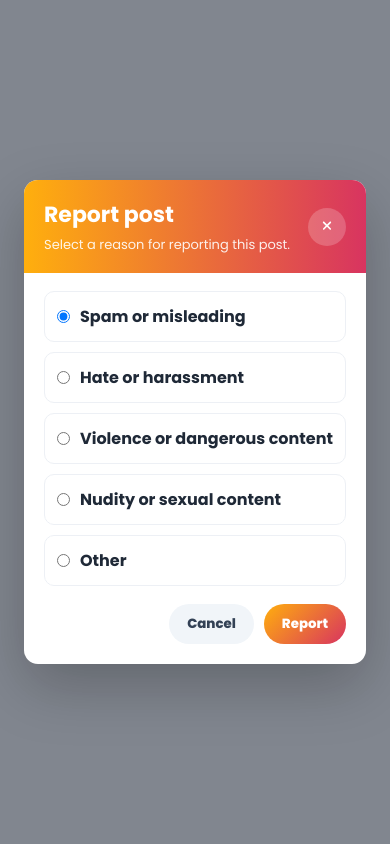
Test: failed report stays open and can be retried
What coordinates should you click on to do the following:
click the button "Report"
I would click on:
 (305, 624)
Its box is [264,604,346,644].
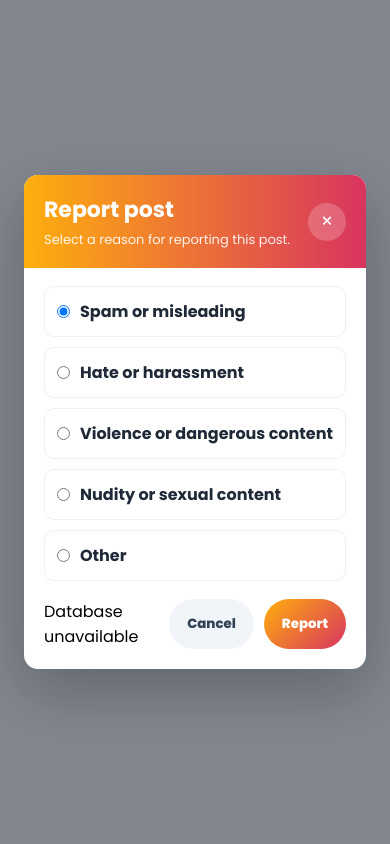
Expected: the text "Reported" is not shown
Now the message reads "Database unavailable", box [44,600,138,648]
What coordinates should you click on to do the following:
click the button "Report"
I would click on:
 (305, 624)
Its box is [264,599,346,649].
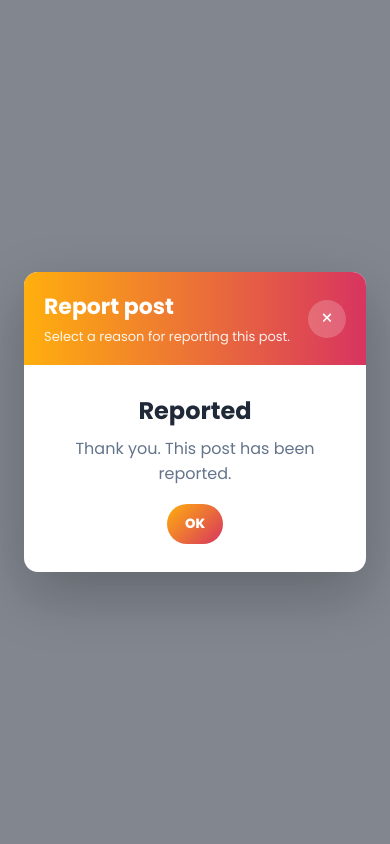
Now the heading "Reported" is shown, box [138,394,252,427]
